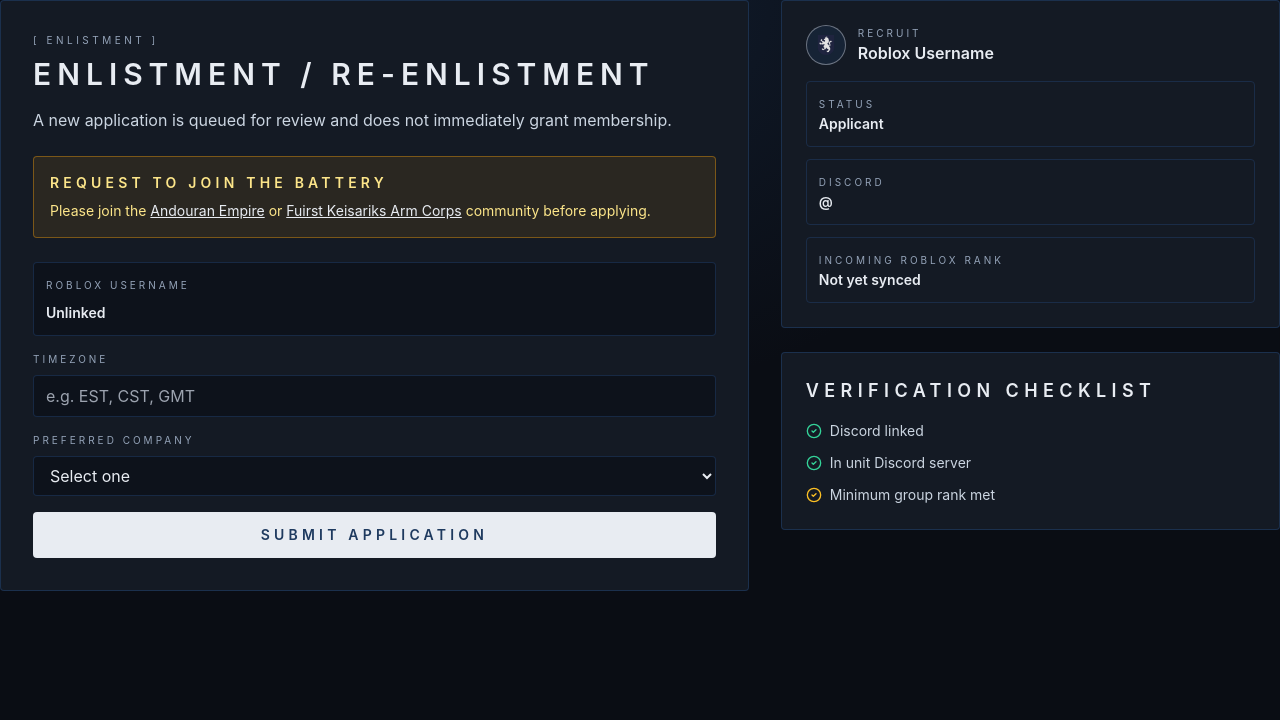
Test case: ApplyPage › submits a new application with the authenticated profile and shows a confirmation
This screenshot has width=1280, height=720.
In the field labelled "Timezone": (374, 396) [33,375,716,417], type "CST"
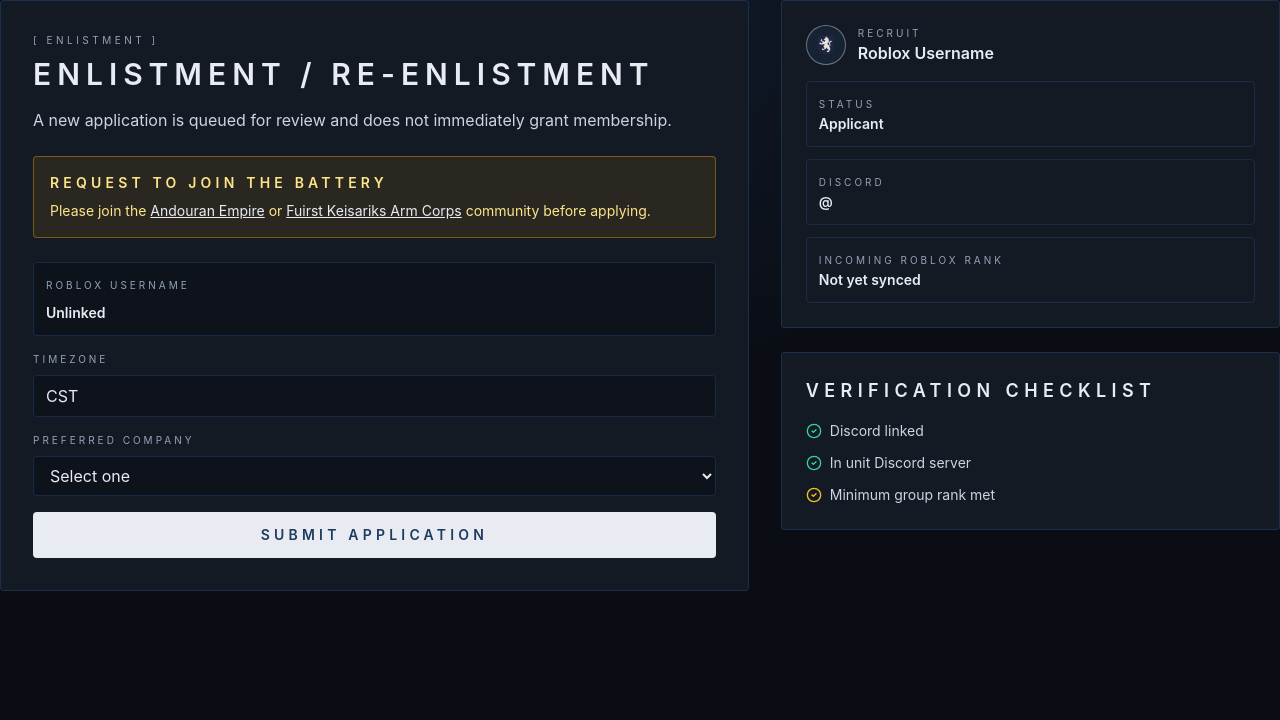
Select "82nd Pirkland" in the dropdown labelled "Preferred Company": (374, 476) [33,456,716,496]
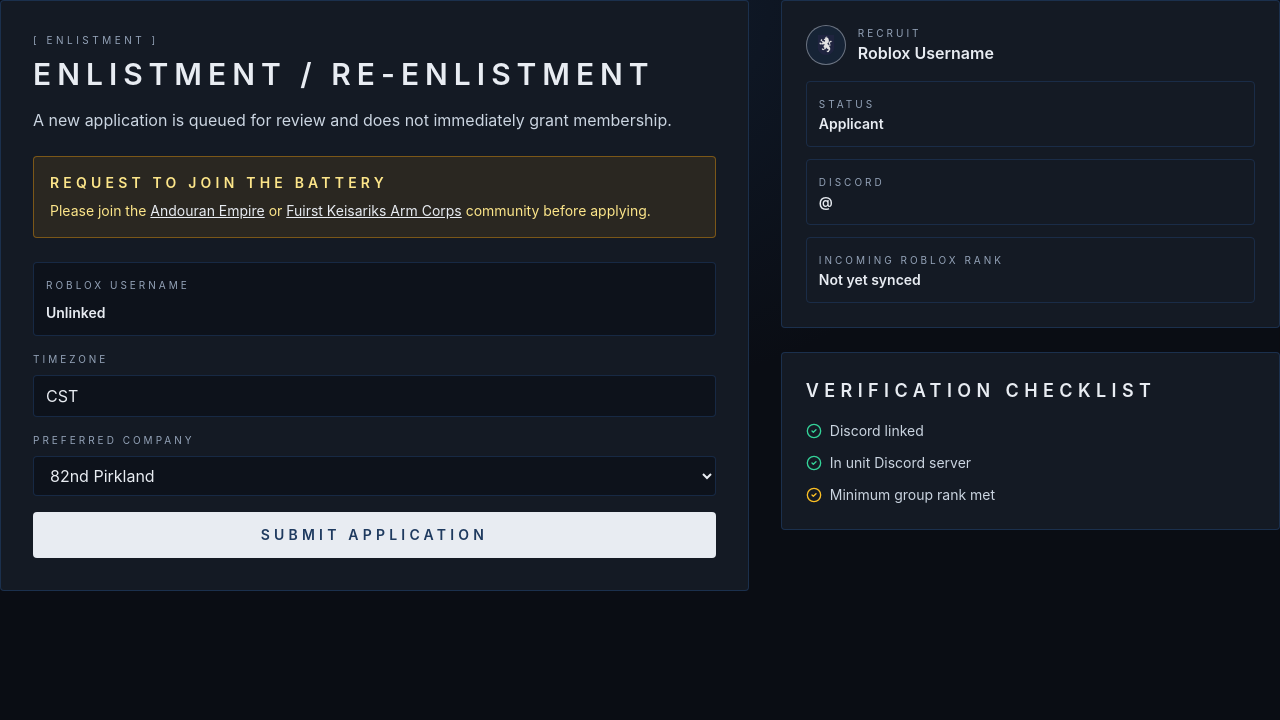
Click the button "Submit Application": (374, 535) [33,512,716,558]
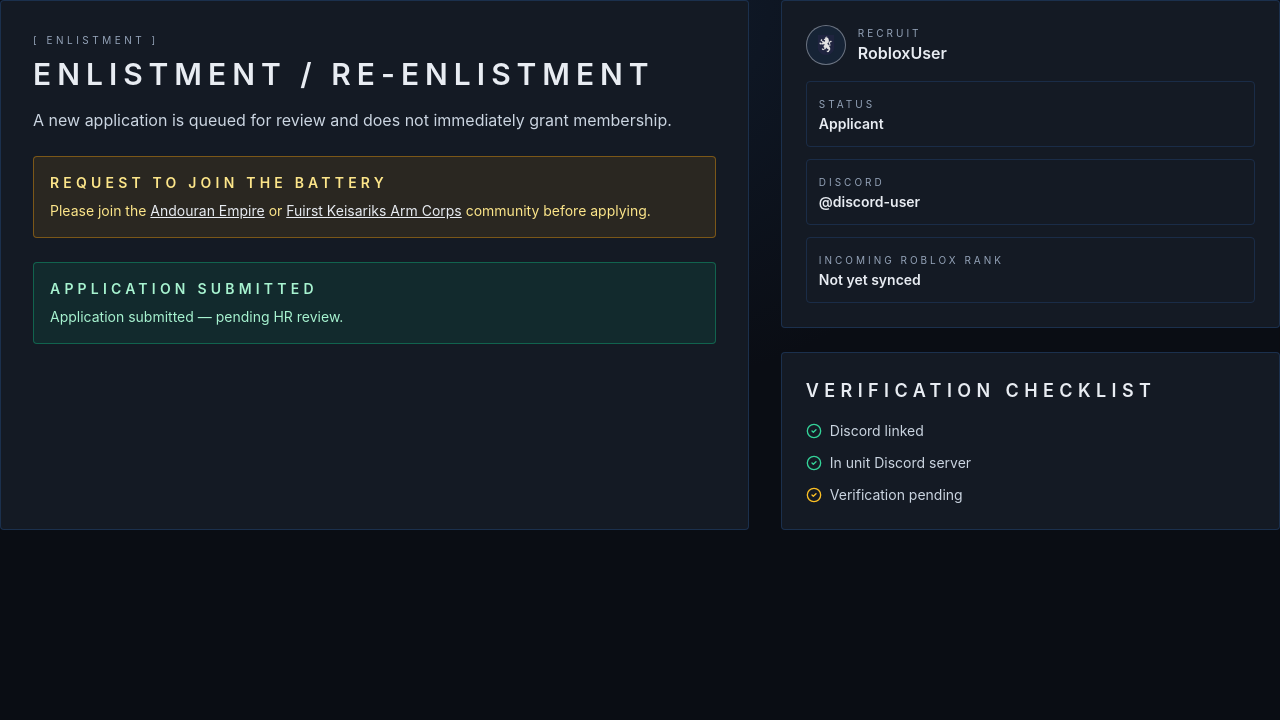
Expected: the text "Application submitted — pending HR review." is shown, [50,308,343,325]
